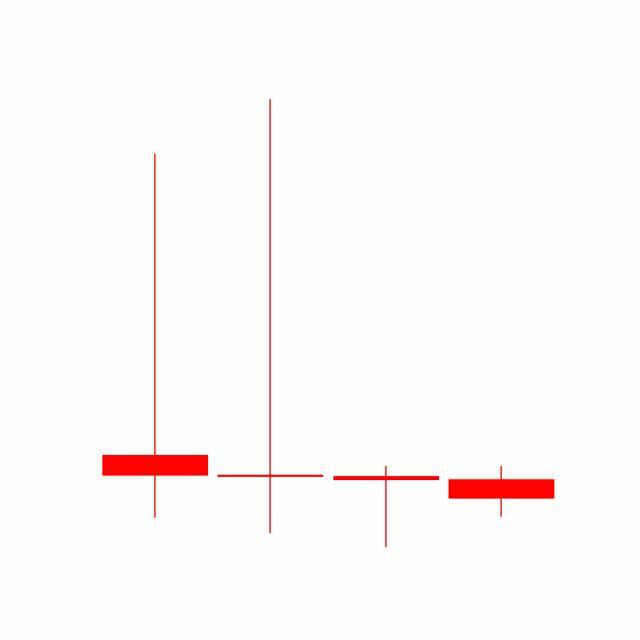Dragonfly Doji: (329, 465, 445, 549)
